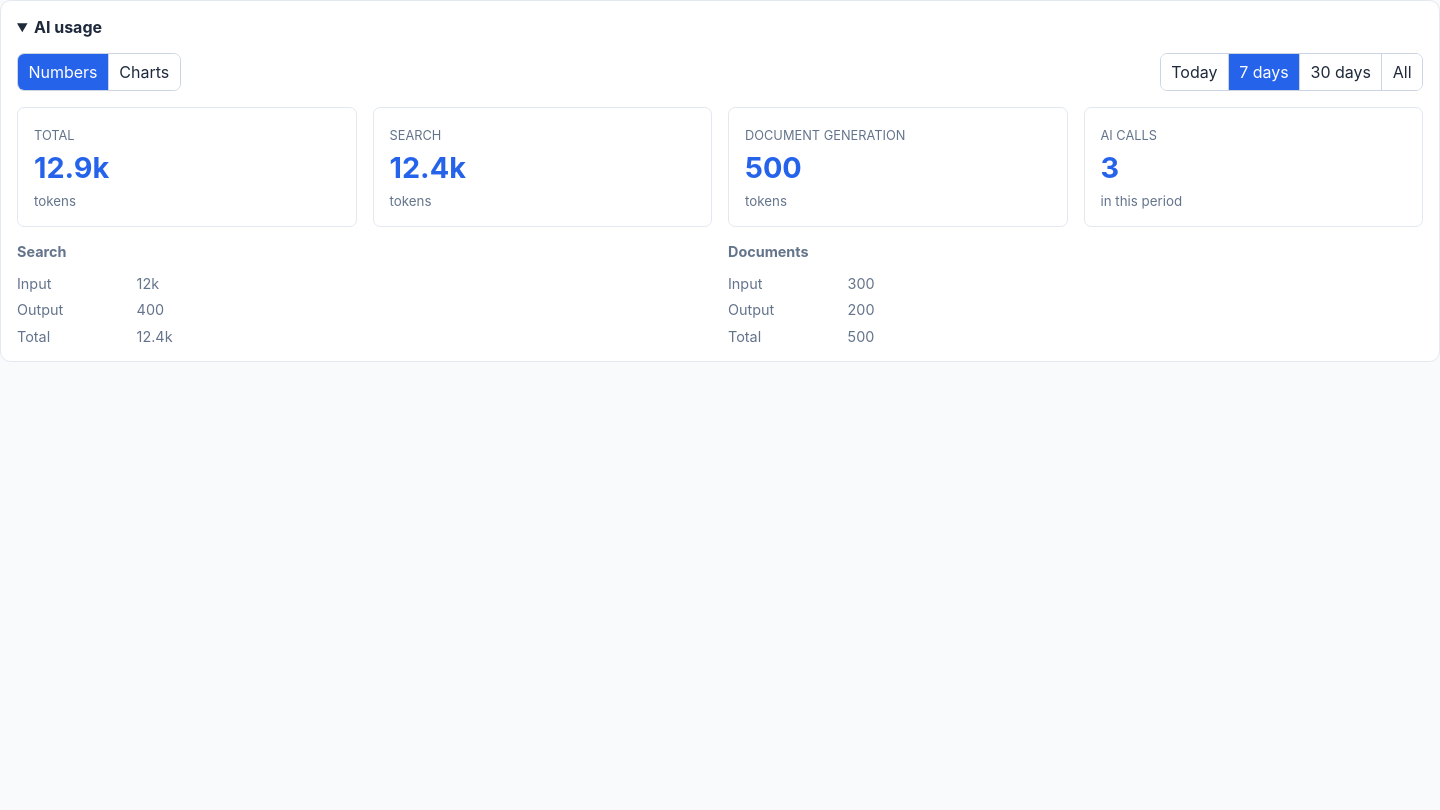
consommation IA › change les quatre périodes sans perdre la vue choisie ni recharger la page
The width and height of the screenshot is (1440, 810).
Click the button "Charts" at [144, 72], box [108,54,180,90]
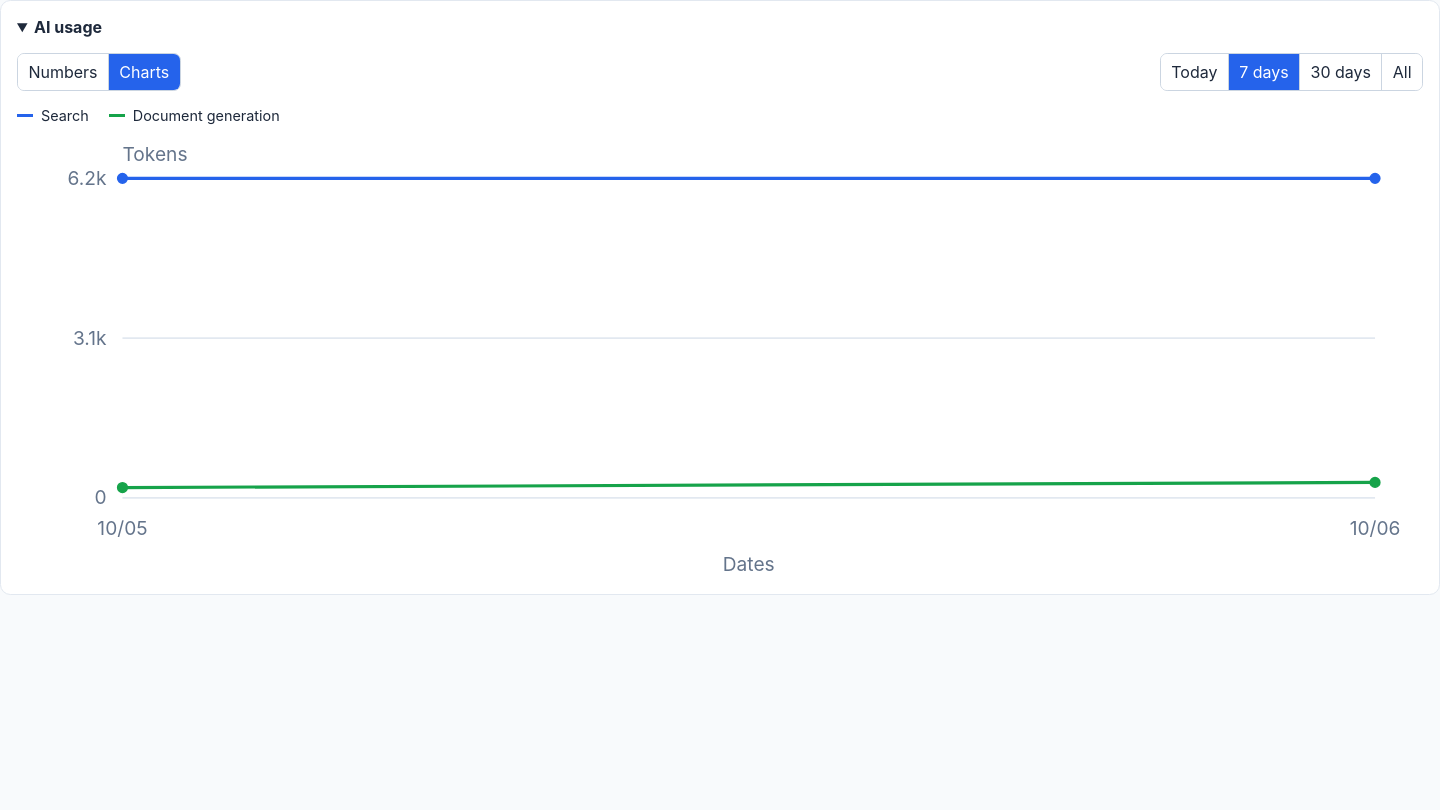
Result: the element with class "ai-usage-chart" shows "Search" at [41,107,89,124]
Result: the element with class "ai-usage-chart" shows "Document generation" at [133,107,280,124]
Click the button "Today" at [1194, 72], box [1161,54,1228,90]
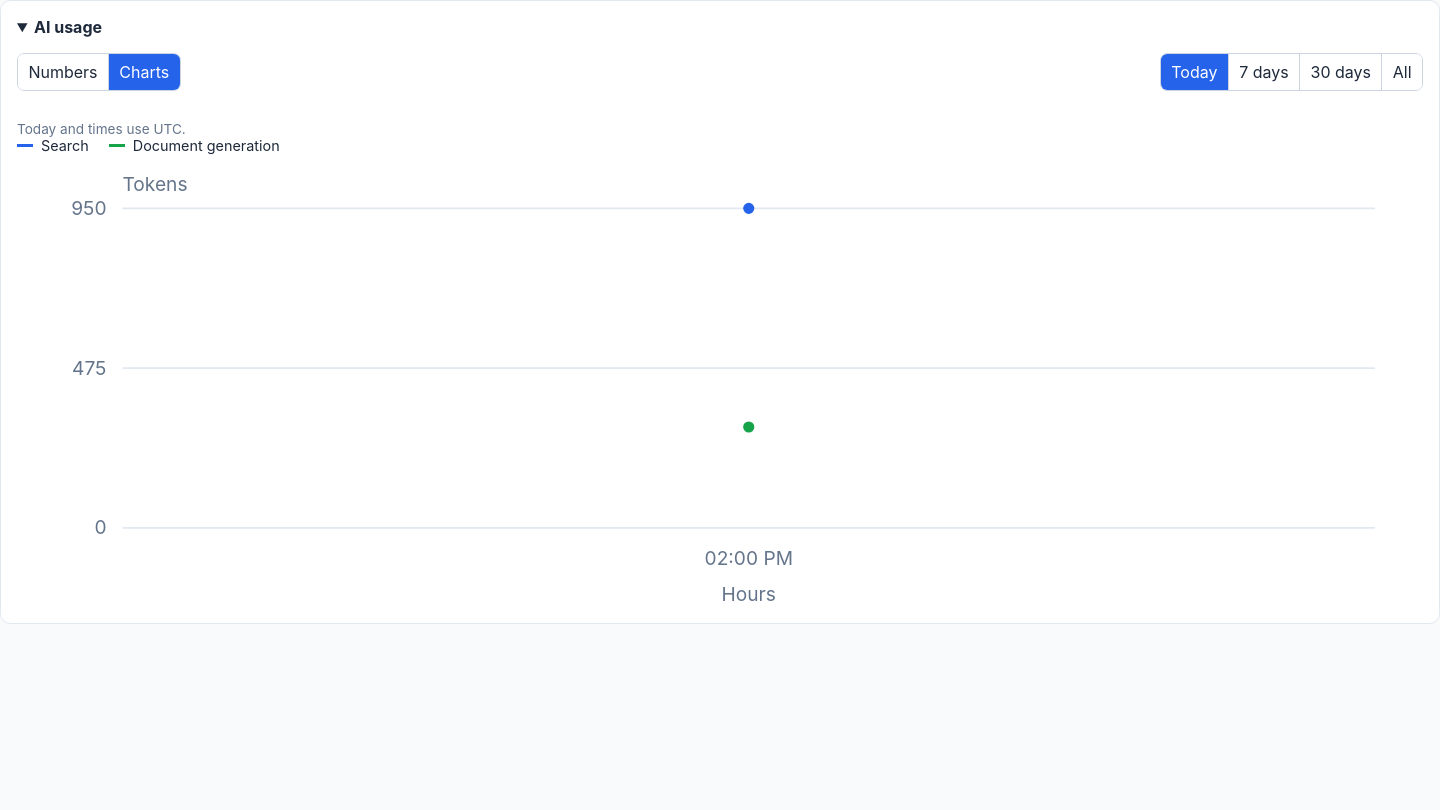
Result: the picture "Tokens 0 475 950 02:00 PM Hours" is shown at [17,170,1423,607]
Result: the text "times use UTC" is shown at [17,121,186,137]
Click the button "7 days" at [1263, 72], box [1228,54,1299,90]
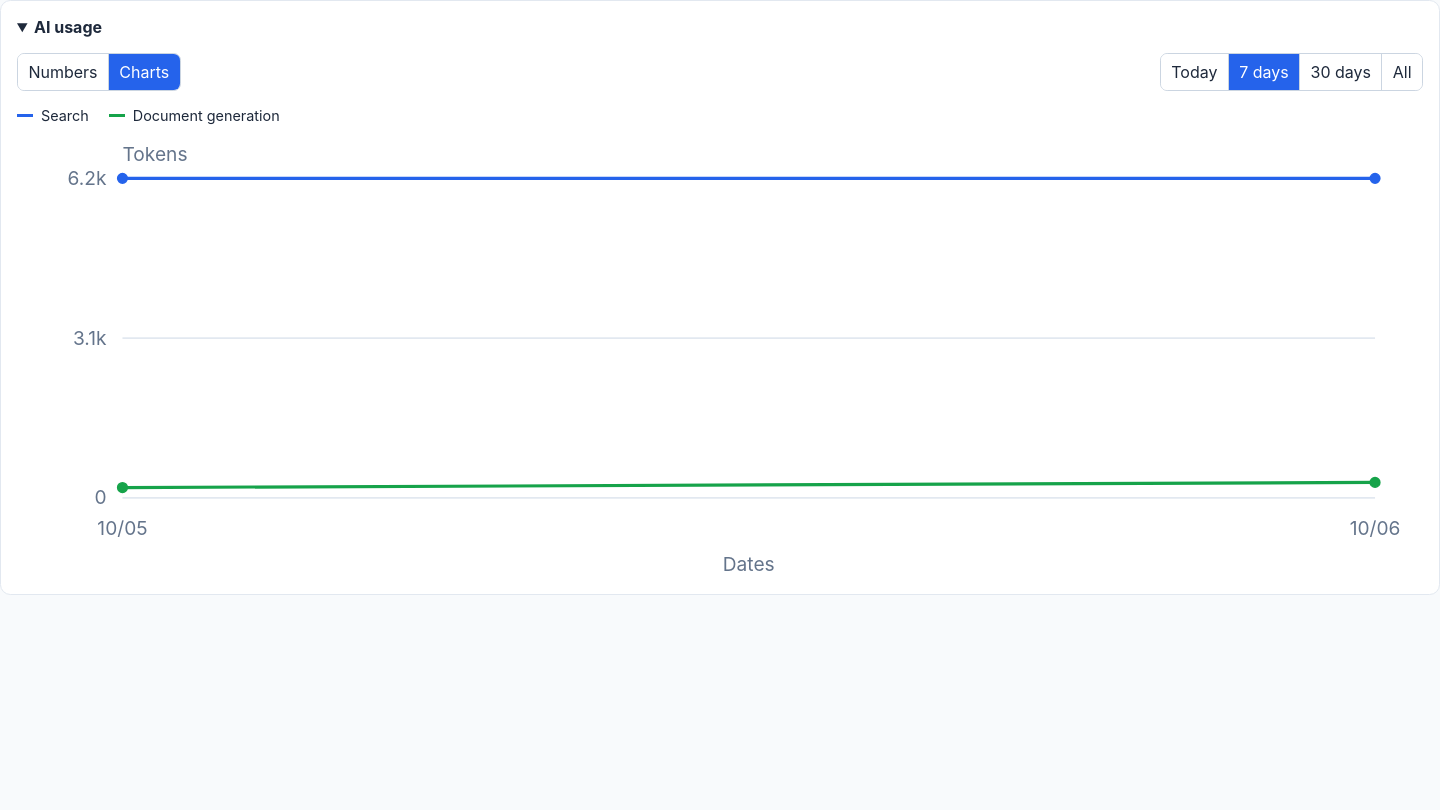
Result: the picture "Tokens 0 3.1k 6.2k 10/05 10/06 Dates" is shown at [17,140,1423,578]
Click the button "30 days" at [1340, 72], box [1299,54,1382,90]
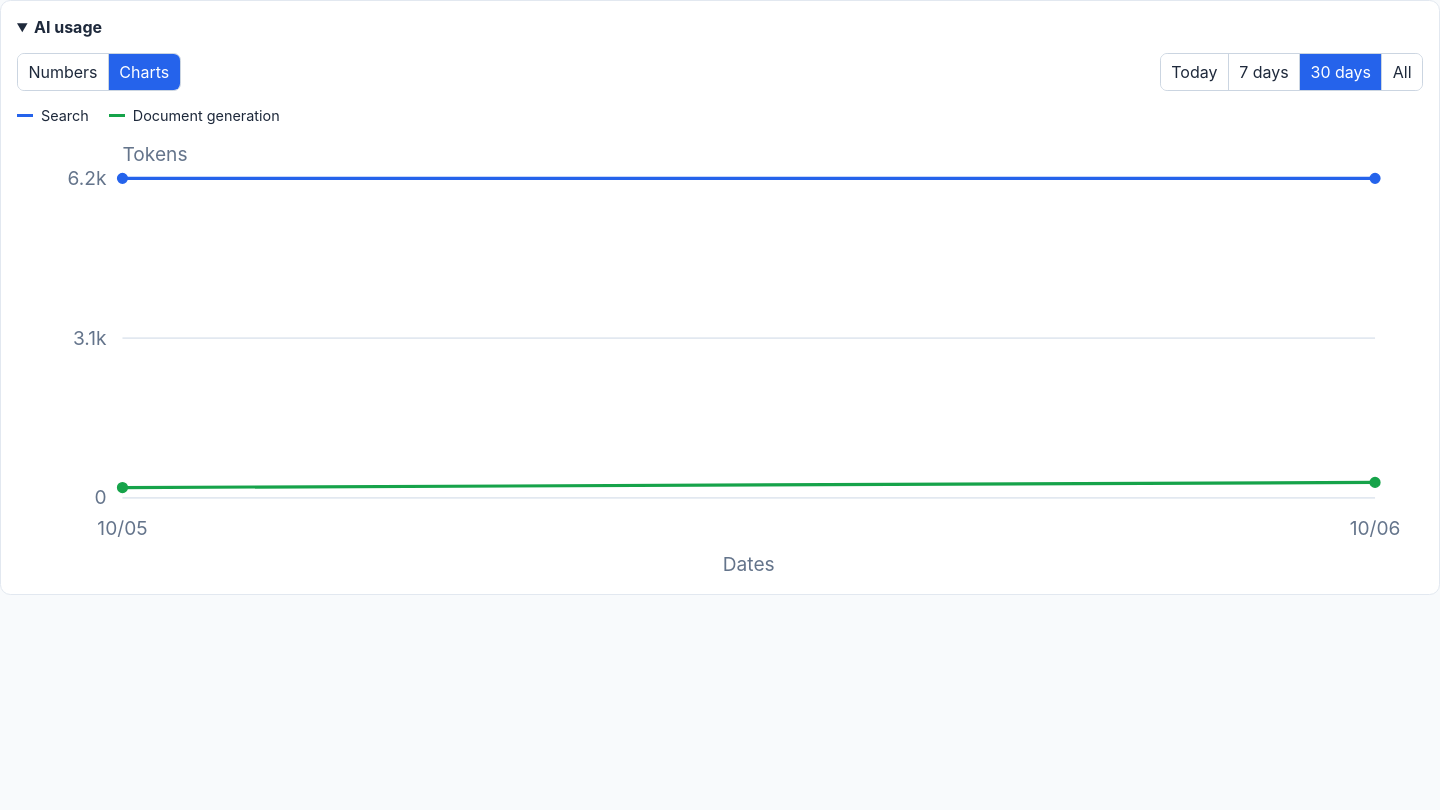
Result: the picture "Tokens 0 3.1k 6.2k 10/05 10/06 Dates" is shown at [17,140,1423,578]
Click the button "All" at [1402, 72], box [1381,54,1422,90]
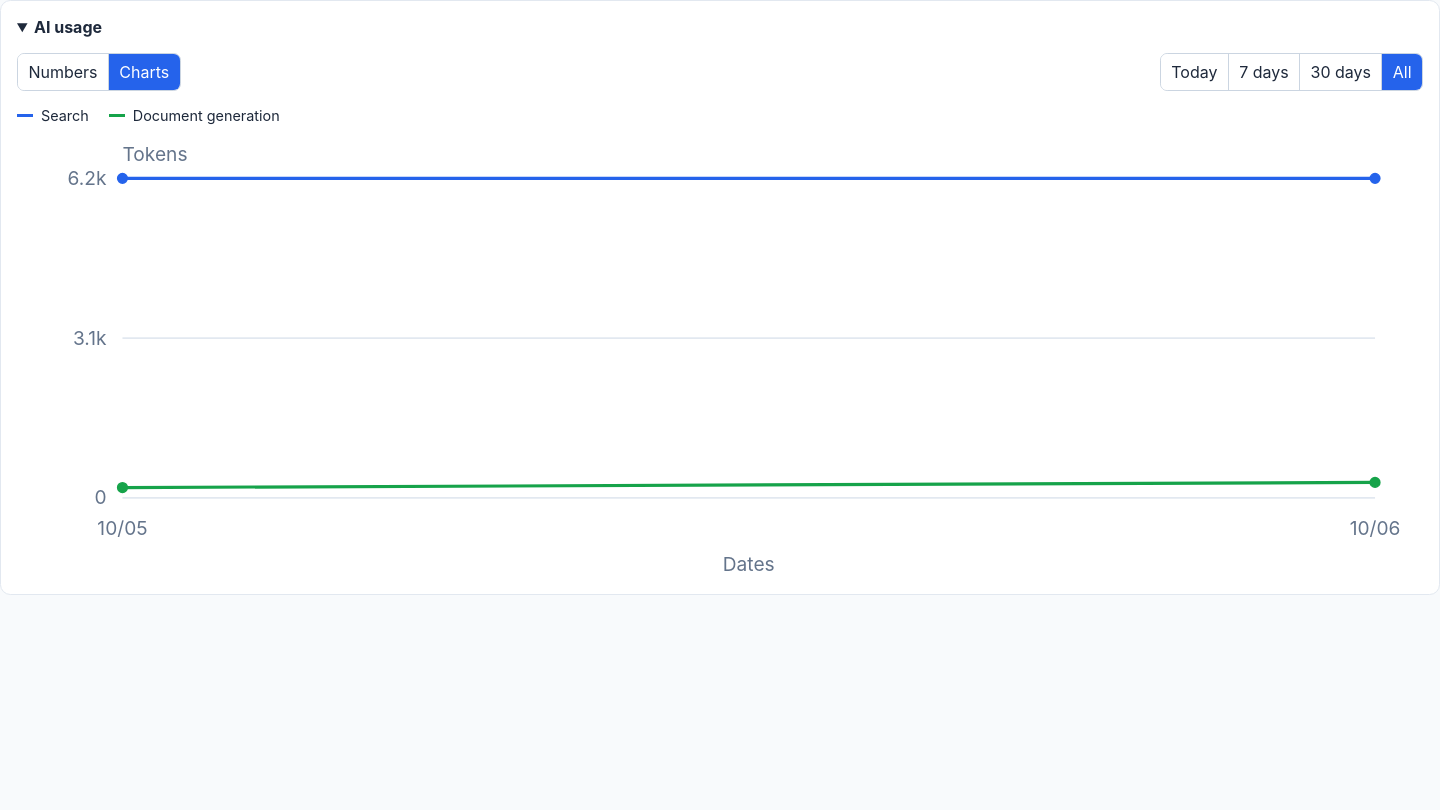
Result: the picture "Tokens 0 3.1k 6.2k 10/05 10/06 Dates" is shown at [17,140,1423,578]
Click the button "Numbers" at [63, 72], box [18,54,108,90]
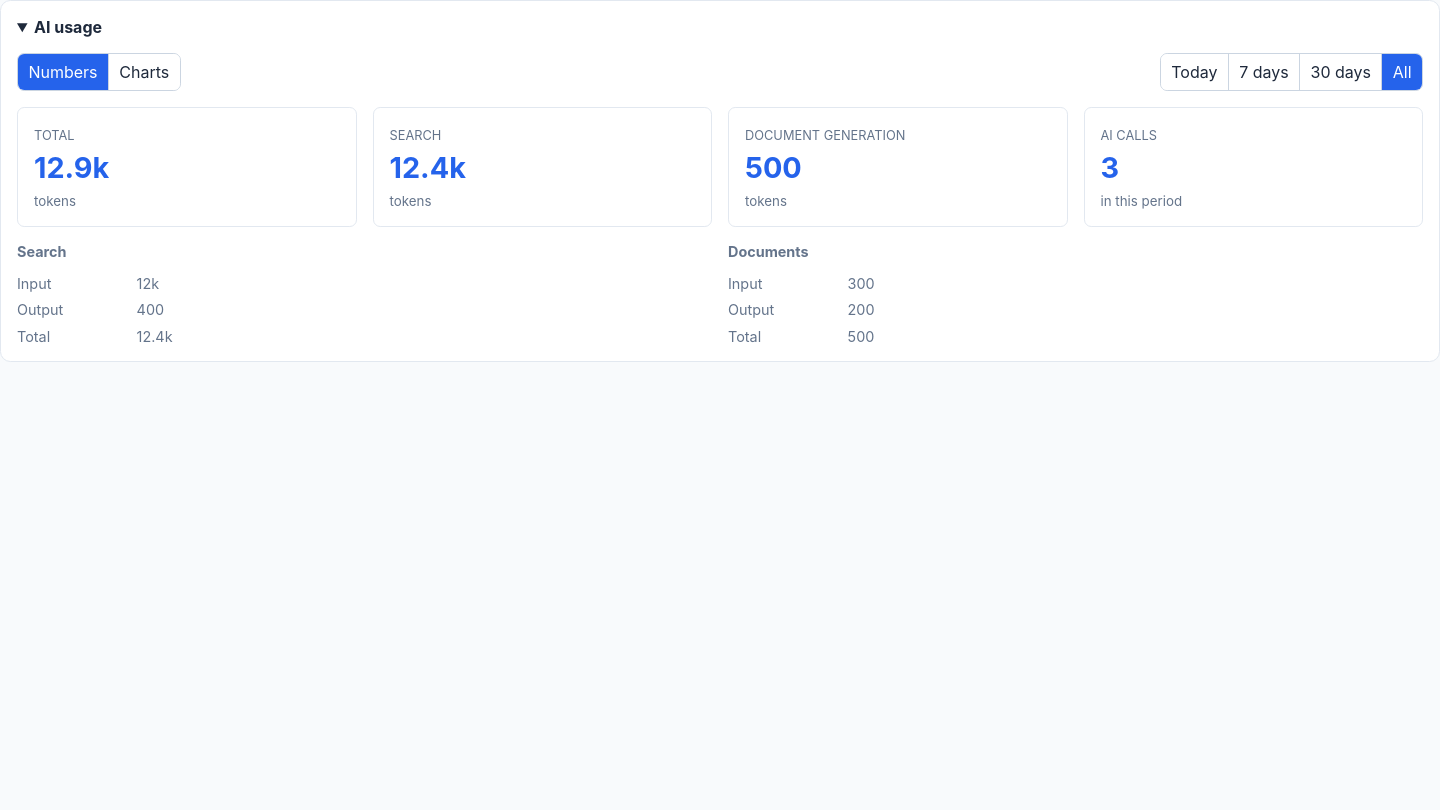
Result: the picture is gone
Result: the element with class "ai-usage-metrics" shows "12.9k" at [34,150,109,185]
